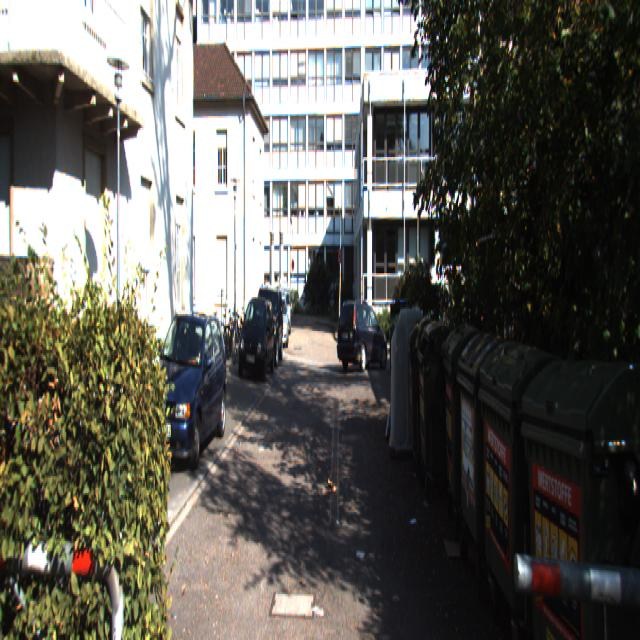Car: (140, 302, 228, 468), (336, 296, 388, 371), (237, 295, 275, 379), (252, 284, 284, 369), (270, 295, 290, 347)
